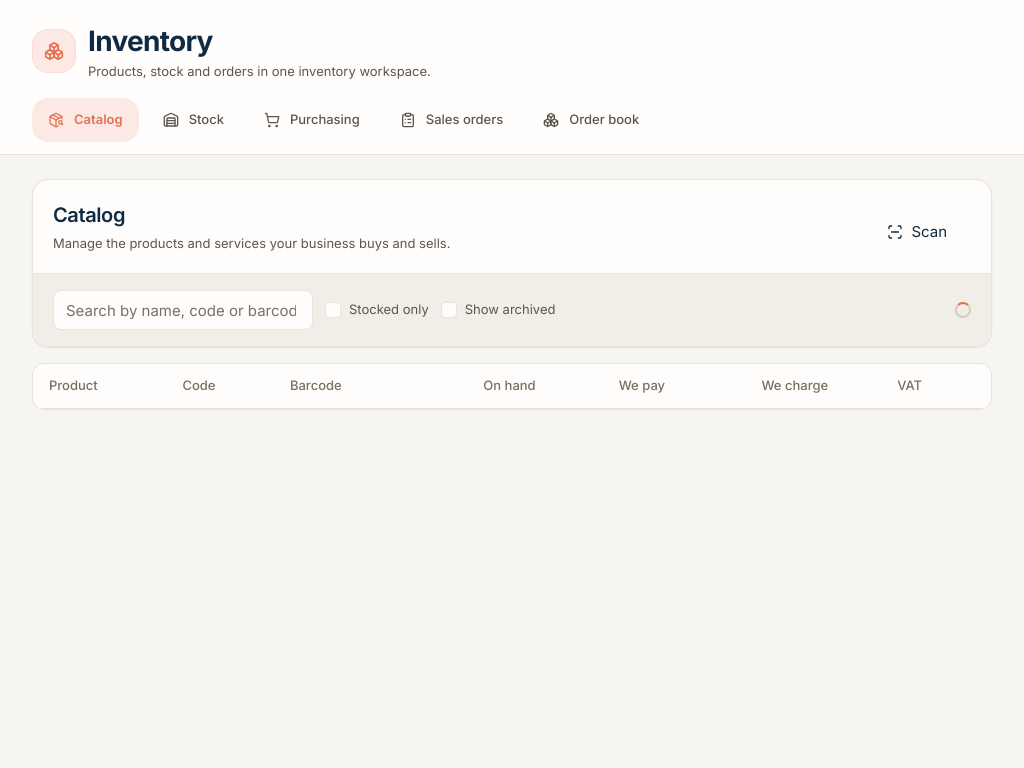
it: scanning a barcode › a misread code is refused in the server's words, with nothing to add
Click the button "Scan" at (917, 232), box [863,210,971,253]
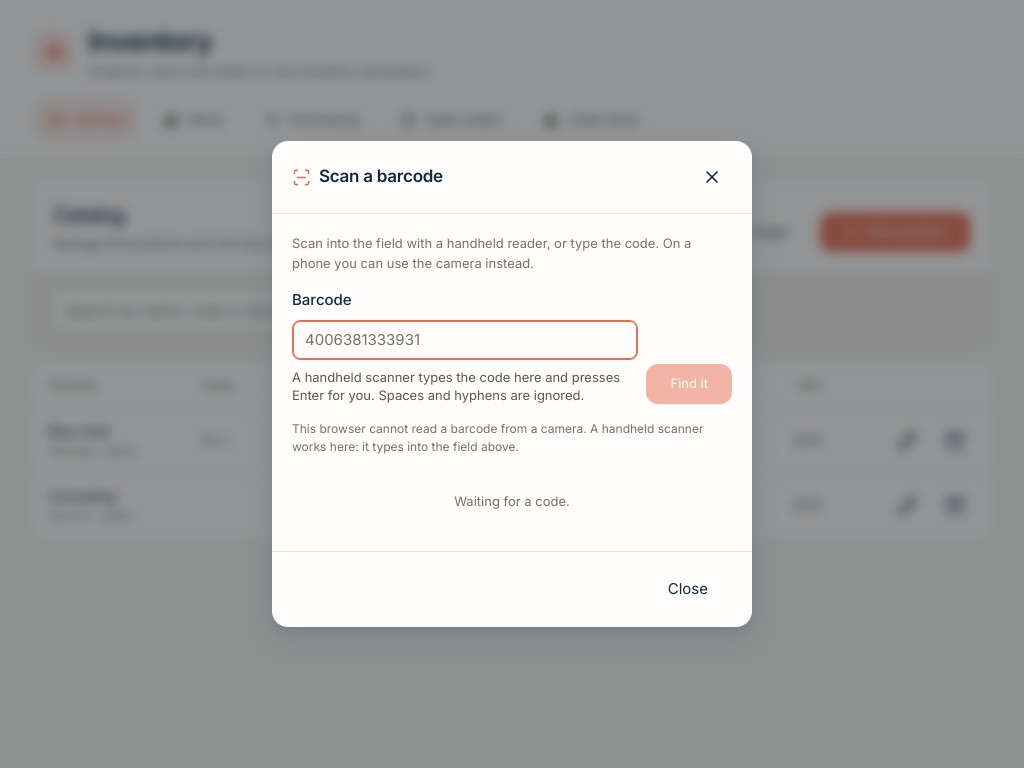
Type "4006381333930" into the field labelled "Barcode" at (465, 340), box [292,320,638,360]
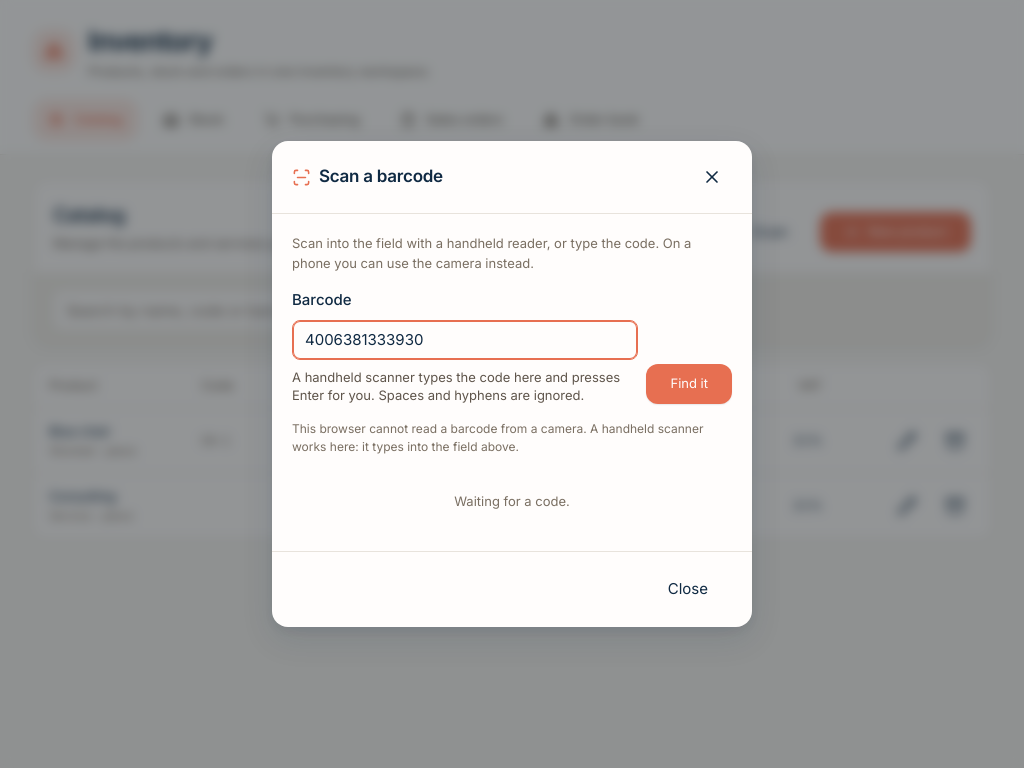
Submit the form labelled "Barcode", box [292,289,732,404]
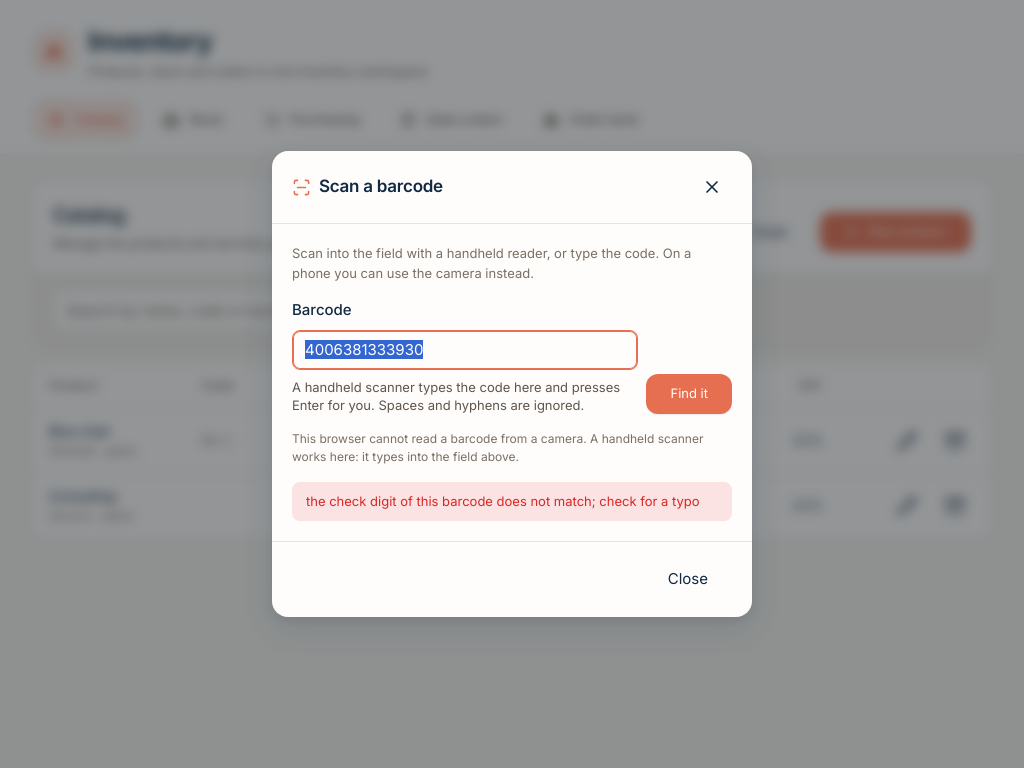
Now the text "the check digit of this barcode does not match; check for a typo" is shown, box [292,482,732,521]
